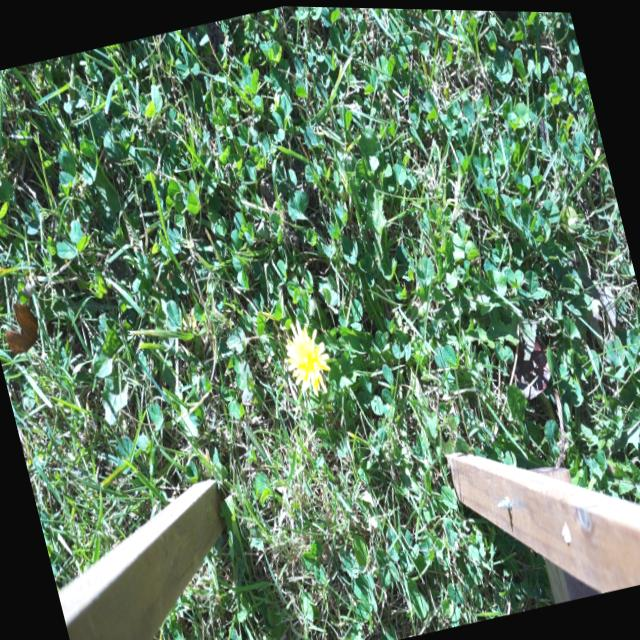flower: (278, 312, 336, 394)
